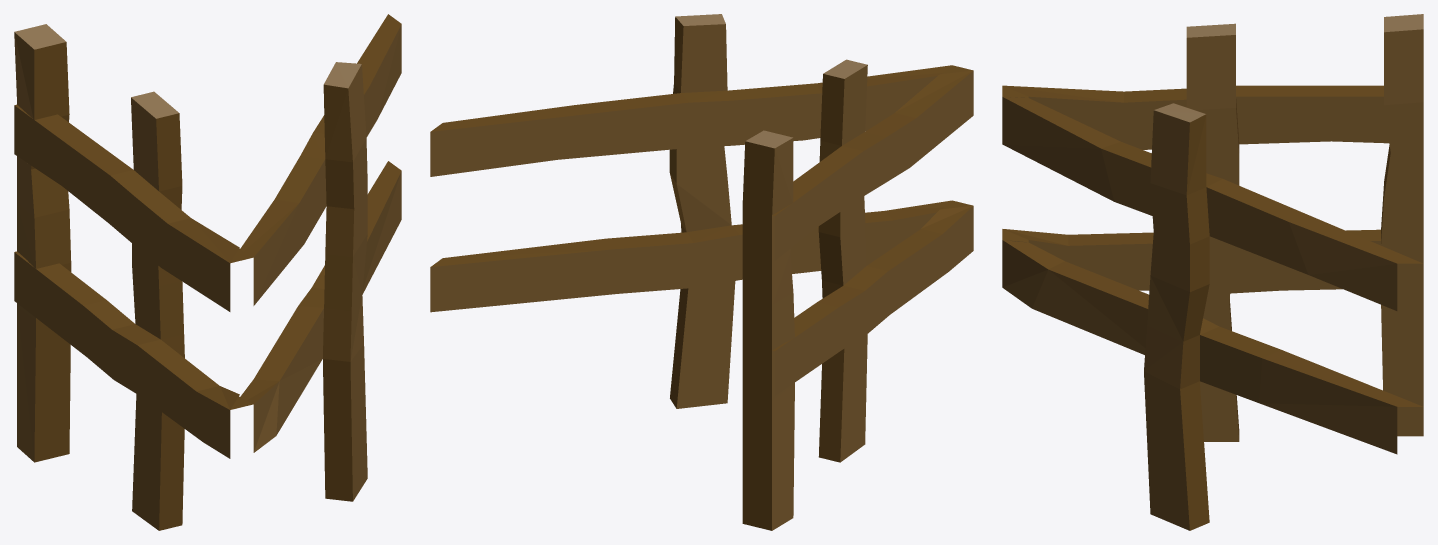
The picture shows the model from 3 angles, left to right: view 1: azimuth 30°, elevation 25°; view 2: azimuth 150°, elevation 25°; view 3: azimuth 270°, elevation 25°; orthographic projection. The views are drawn at different scales.
Size of the model in its own units: 128 by 136 by 128.
1 material, 1 textured.
